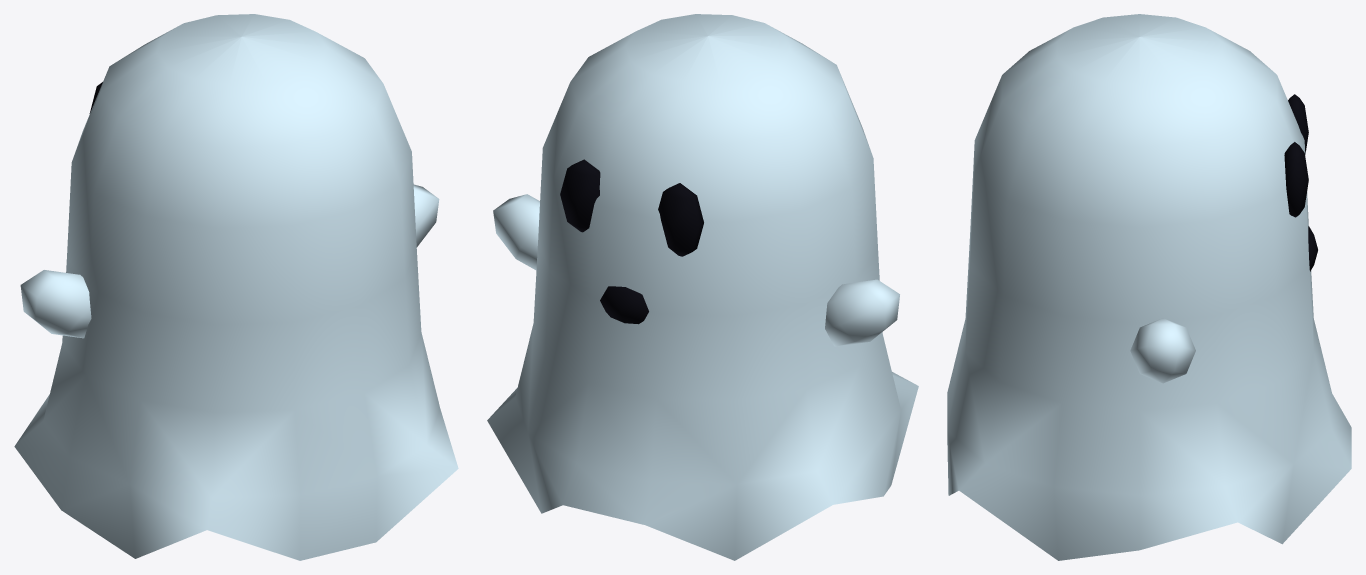
Rendered from fantasma.obj.
3 views of the same model, side by side, from view 1: azimuth 30°, elevation 25°; view 2: azimuth 150°, elevation 25°; view 3: azimuth 270°, elevation 25° (orthographic). The views are drawn at different scales.
Parts seen in each view (by area): view 1: fantasma; view 2: fantasma; view 3: fantasma.
Boxes of the visible parts, <box> form: fantasma: <box>14,14,458,560</box>; fantasma: <box>487,14,918,560</box>; fantasma: <box>947,14,1351,560</box>.
Size of the model in its own units: 0.98 by 1.08 by 0.8608.
